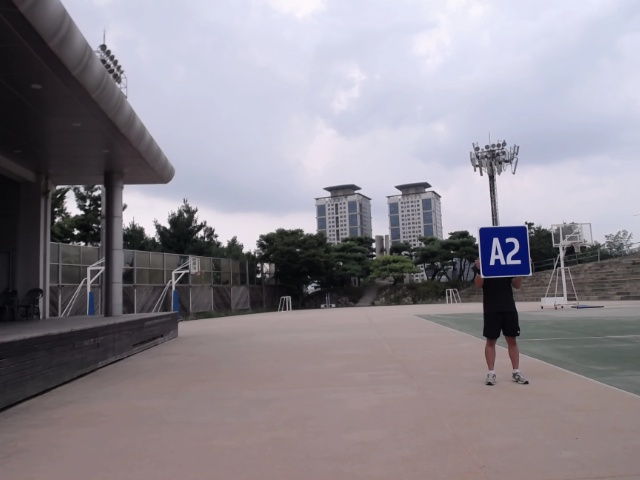delivery_a2: (479, 226, 531, 276)
